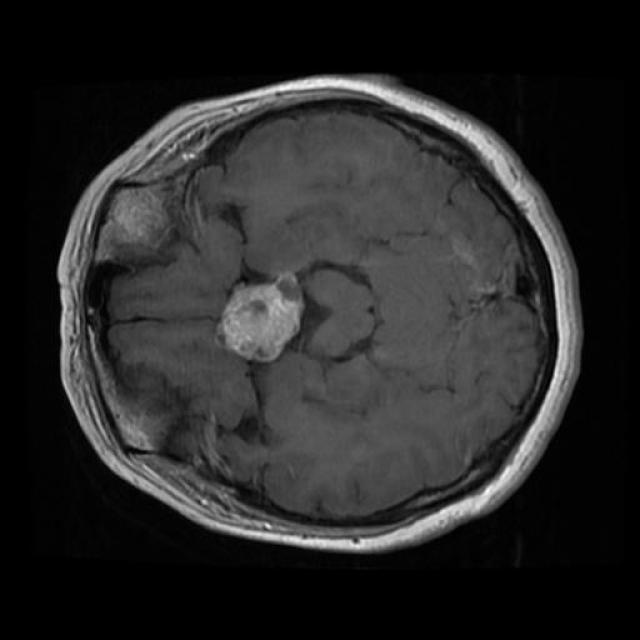Pituitary: (217, 273, 304, 362)
